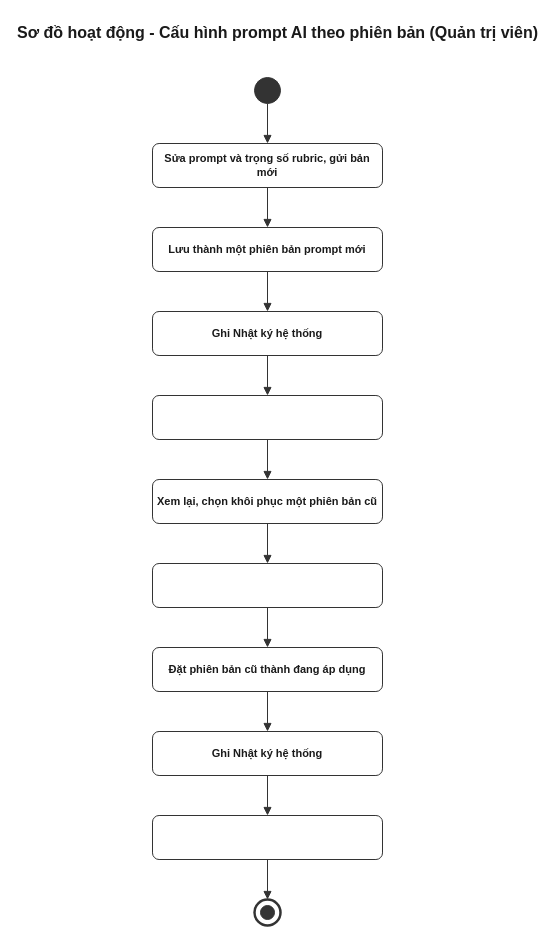
This 555x944 diagram has some shape labels left out. The centre of each missing label's shape, as x and y in pixels:
"Hiện phiên bản đang áp dụng" belongs at (x=267, y=417).
"Hiện đã khôi phục xong" belongs at (x=267, y=837).
"Yêu cầu khôi phục phiên bản đã chọn" belongs at (x=267, y=585).
